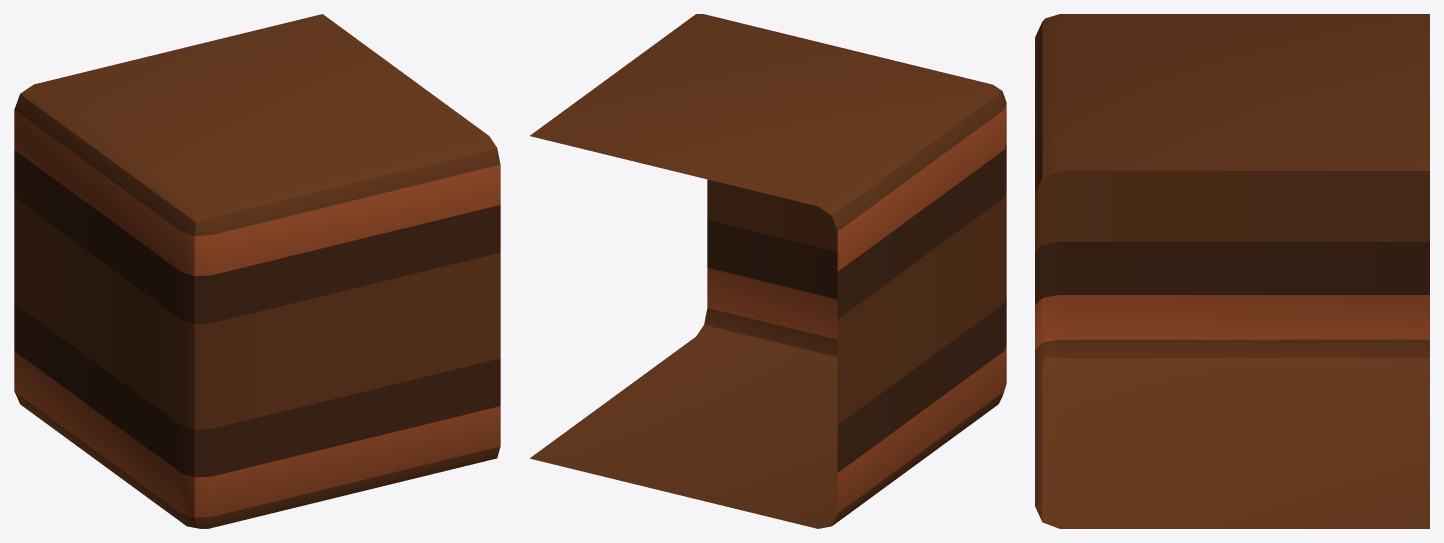
The model's file is Cube_Dirt_Corner.obj.
3 views of the same model, side by side, from view 1: azimuth 30°, elevation 25°; view 2: azimuth 150°, elevation 25°; view 3: azimuth 270°, elevation 25° (orthographic). The views are drawn at different scales.
Parts seen in each view (by area): view 1: Cube_Dirt_Corner_Cube.310; view 2: Cube_Dirt_Corner_Cube.310; view 3: Cube_Dirt_Corner_Cube.310.
Part boxes in pixels (bbox=[...]): Cube_Dirt_Corner_Cube.310: bbox=[14, 14, 500, 528]; Cube_Dirt_Corner_Cube.310: bbox=[530, 14, 1006, 528]; Cube_Dirt_Corner_Cube.310: bbox=[1035, 14, 1429, 528].
Bounding box in the file's own units: 2 × 2 × 2.
